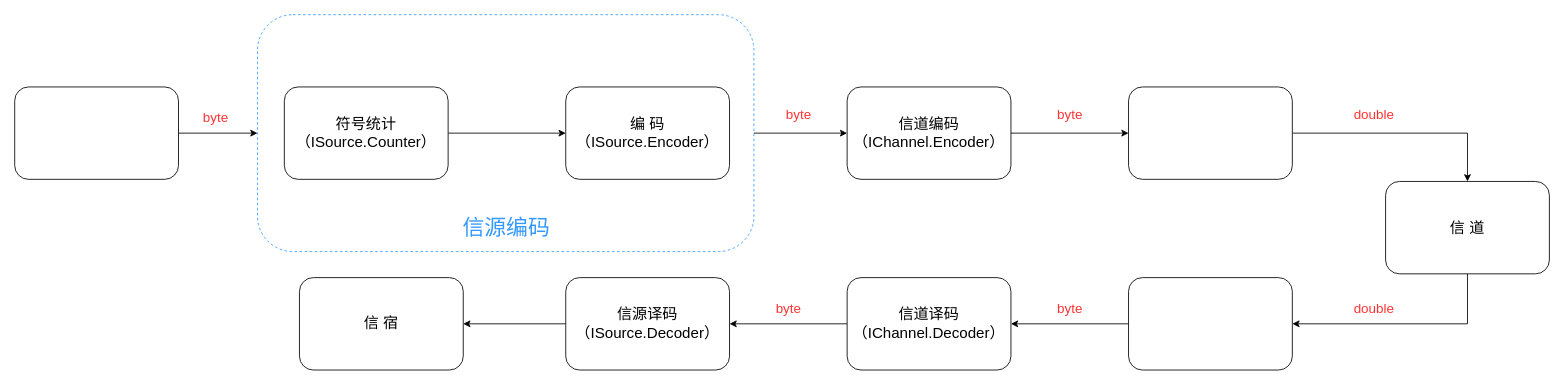
Image size: 1564x385. Some labels were removed from this diagram. Here are the shapes that lost their labels. From the top down, the centre of each, then its label:
At pixel 96 132: "数字信源".
At pixel 1210 132: "数字基带调制（Modem.Modulator）".
At pixel 1210 323: "数字基带解调（Modem.Demodulator）".
